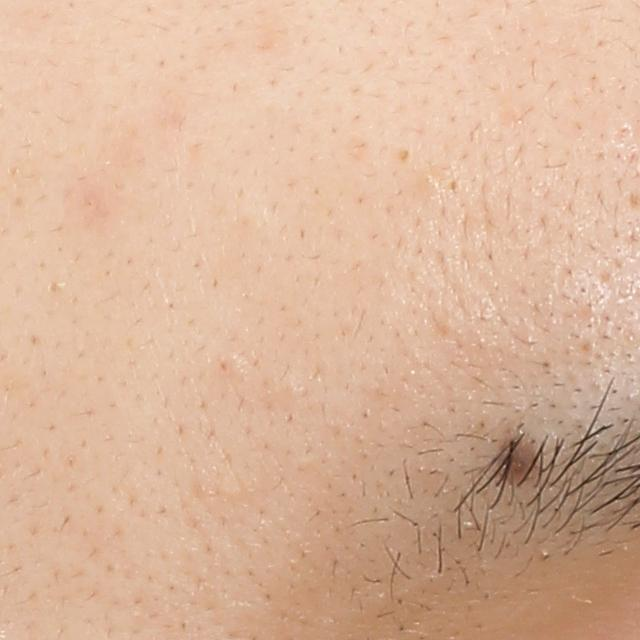comedo: (392, 146, 414, 163)
